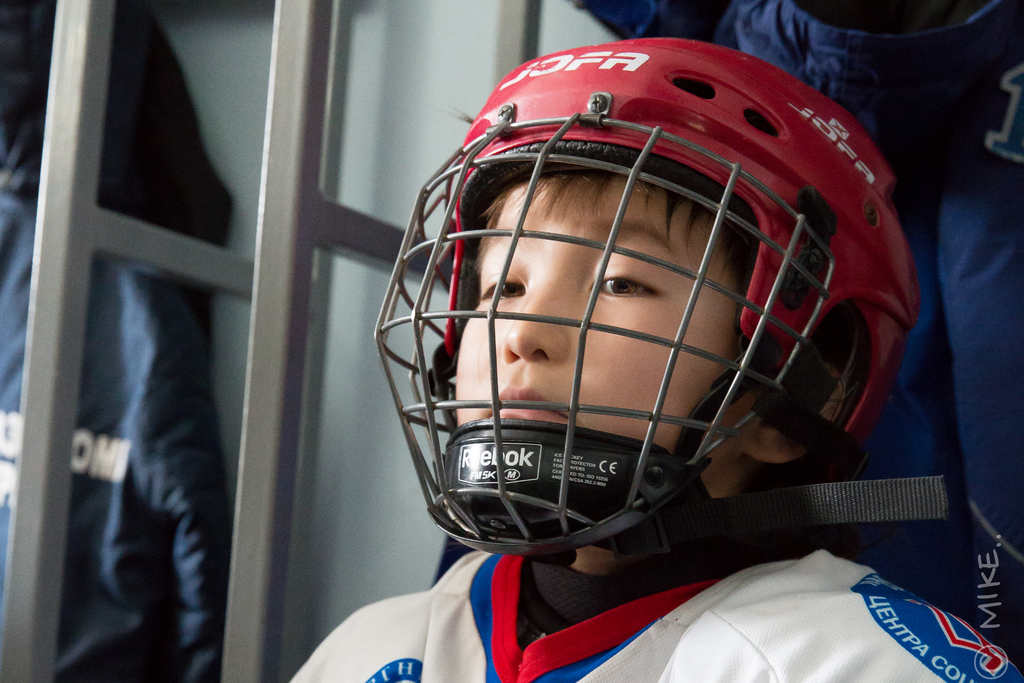Person: (288, 37, 1023, 682)
